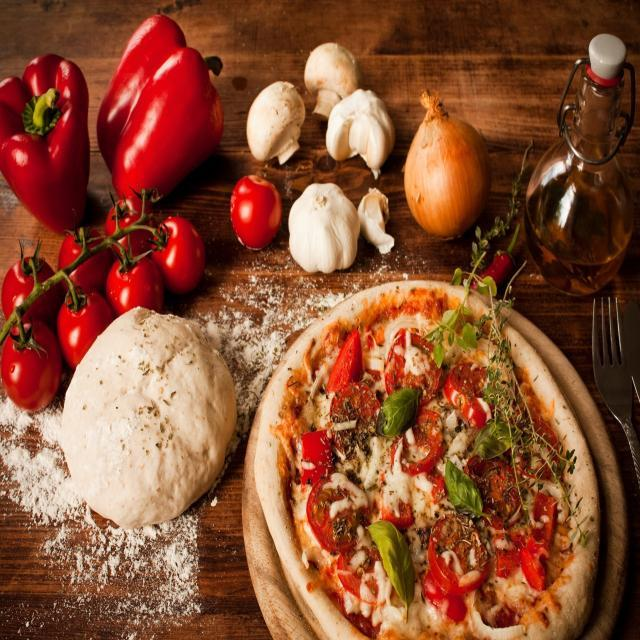bell_pepper: (93, 11, 227, 205), (1, 54, 92, 226)
garlic: (289, 169, 365, 283), (327, 78, 396, 181)
onion: (406, 89, 492, 235)
tomato: (2, 314, 59, 414), (145, 212, 209, 290), (229, 169, 283, 253), (104, 245, 166, 317), (60, 287, 112, 372), (56, 223, 112, 290), (106, 187, 162, 253), (4, 250, 56, 308)
